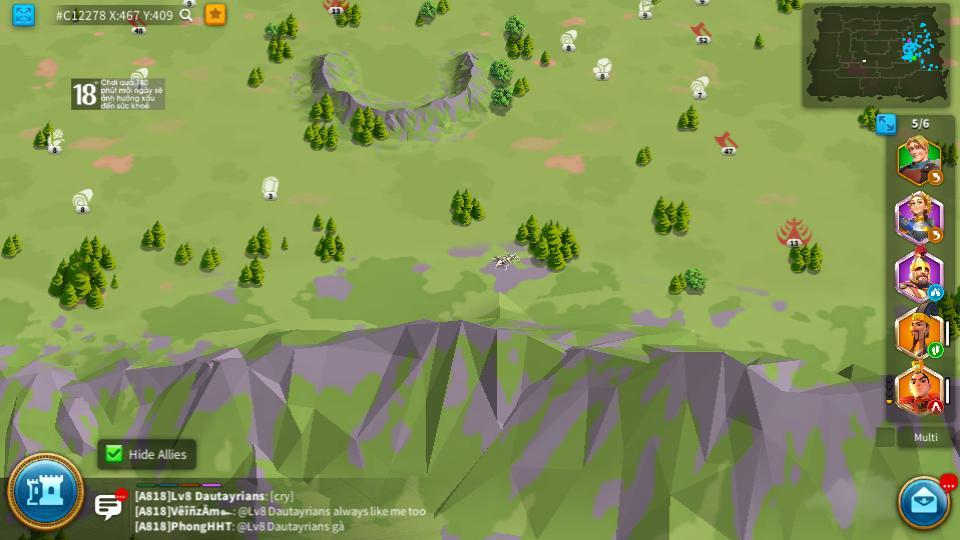gem-z-out: (260, 176, 279, 198)
march_attacking: (927, 402, 944, 414)
march_idle: (929, 284, 942, 299)
march_marching: (928, 345, 942, 358)
march_returning: (927, 170, 944, 185), (928, 229, 942, 242)
